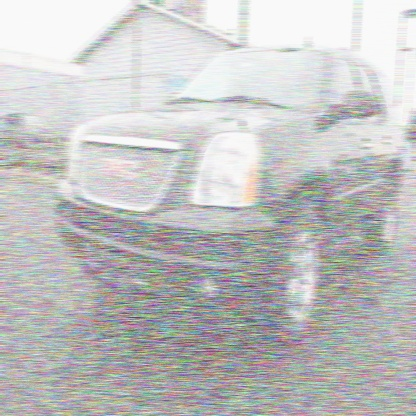Vehicle: (55, 46, 405, 351)
